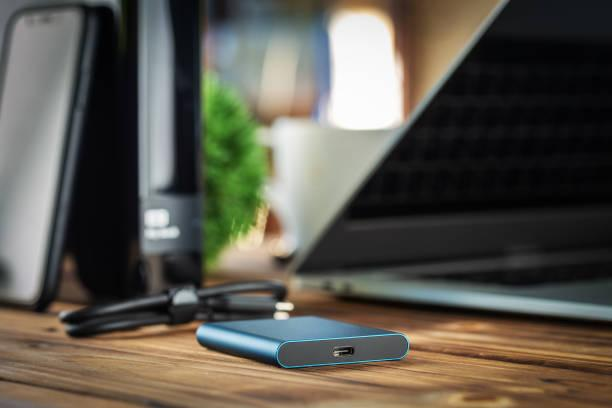HDD: (195, 317, 411, 371)
